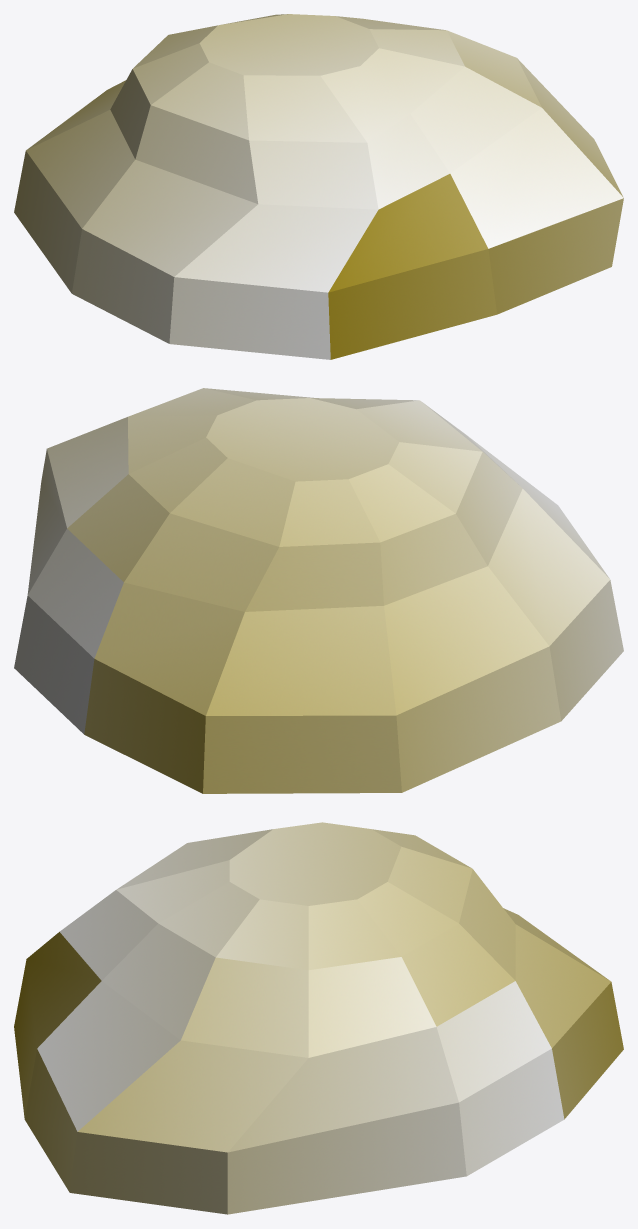
File: Rock7.obj
3 views of the same model, one above another, from view 1: azimuth 30°, elevation 25°; view 2: azimuth 150°, elevation 25°; view 3: azimuth 270°, elevation 25° (orthographic). The views are drawn at different scales.
Parts seen in each view (by area): view 1: pasted__pSphere1 pasted__pSphere1SmoothProxyGroup group; view 2: pasted__pSphere1 pasted__pSphere1SmoothProxyGroup group; view 3: pasted__pSphere1 pasted__pSphere1SmoothProxyGroup group.
Part boxes in pixels (left/top/right/bottom): pasted__pSphere1 pasted__pSphere1SmoothProxyGroup group: left=14, top=14, right=623, bottom=359; pasted__pSphere1 pasted__pSphere1SmoothProxyGroup group: left=14, top=388, right=623, bottom=793; pasted__pSphere1 pasted__pSphere1SmoothProxyGroup group: left=14, top=822, right=623, bottom=1214.
Size of the model in its own units: 10.7 by 4.04 by 10.46.
1 material, 1 textured.
